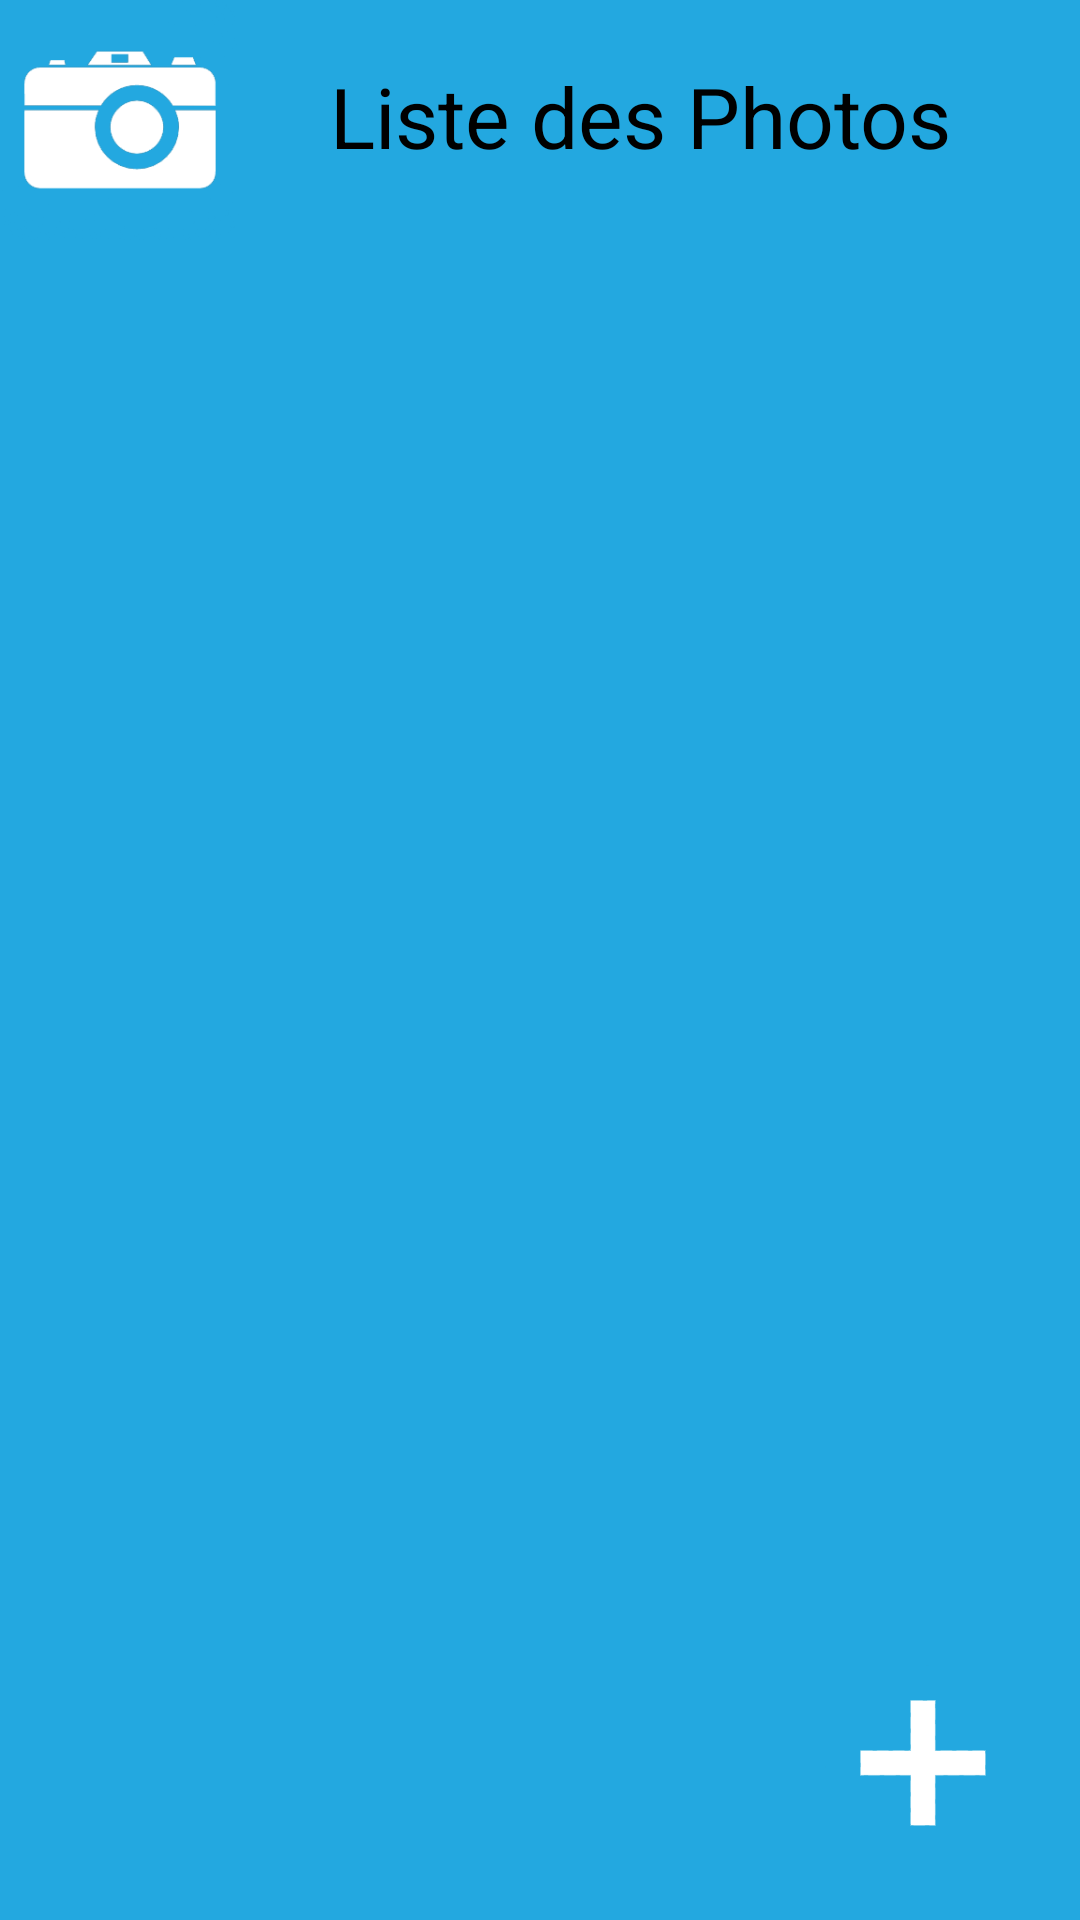

Point at icon controls on the screen. Image size 1080 × 1920, points as (x,y).
add: (923,1763)
piccamera: (120,120)
